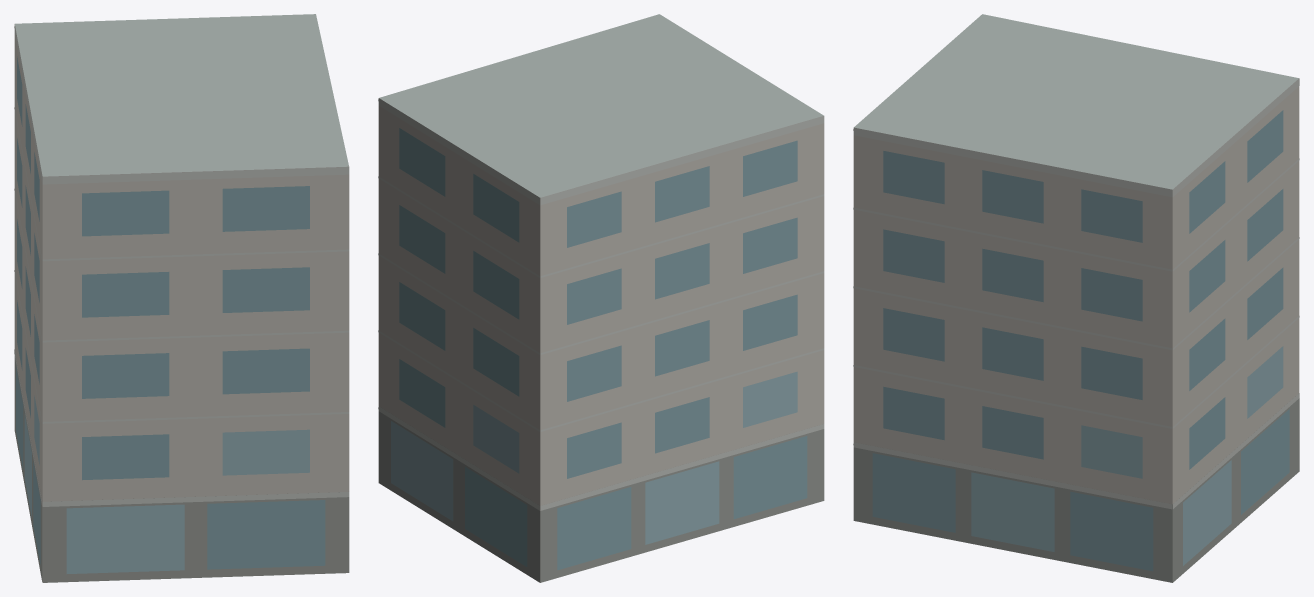
File: survey-upis-32910351.glb
The picture shows the model from 3 angles, left to right: view 1: azimuth 30°, elevation 25°; view 2: azimuth 150°, elevation 25°; view 3: azimuth 270°, elevation 25°; orthographic projection. The views are drawn at different scales.
Parts seen in each view (by area): view 1: survey-upis-32910351.tmp; view 2: survey-upis-32910351.tmp; view 3: survey-upis-32910351.tmp.
Part boxes in pixels (x1,y1,x2,y2): survey-upis-32910351.tmp: (14, 14, 349, 582); survey-upis-32910351.tmp: (378, 14, 824, 582); survey-upis-32910351.tmp: (853, 14, 1299, 582).
Bounding box in the file's own units: 11.9 × 12.4 × 12.76.
